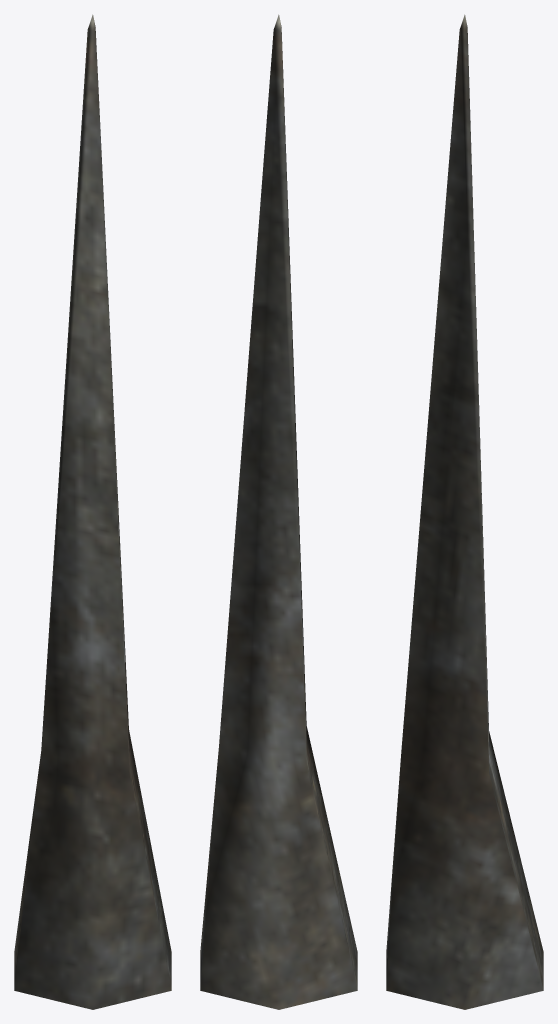
File: Stall_small2.fbx
3 renders of one model, left to right at view 1: azimuth 30°, elevation 25°; view 2: azimuth 150°, elevation 25°; view 3: azimuth 270°, elevation 25°, orthographic.
Visible parts, largest first — view 1: pCylinder5; view 2: pCylinder5; view 3: pCylinder5.
Part boxes in pixels (box(x1,y1,x2,y2)): pCylinder5: box(14, 14, 171, 1009); pCylinder5: box(200, 14, 357, 1009); pCylinder5: box(386, 14, 543, 1009).
Size of the model in its own units: 0.5444 by 3.16 by 0.4714.
